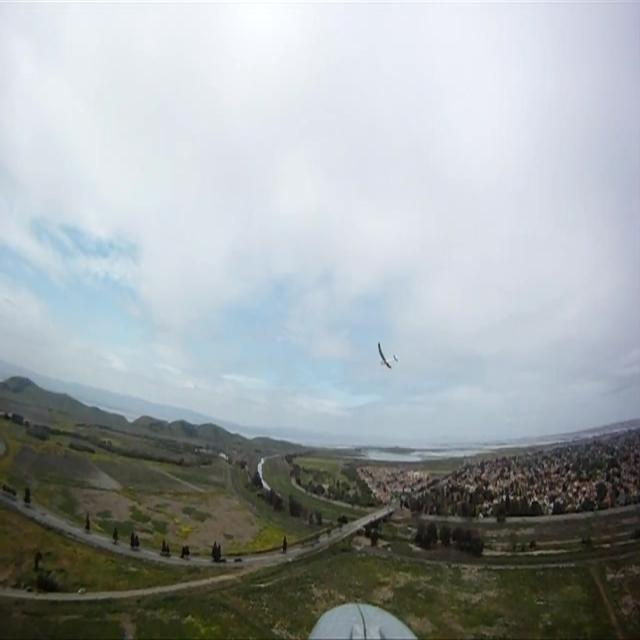iha: (377, 341, 400, 370)
